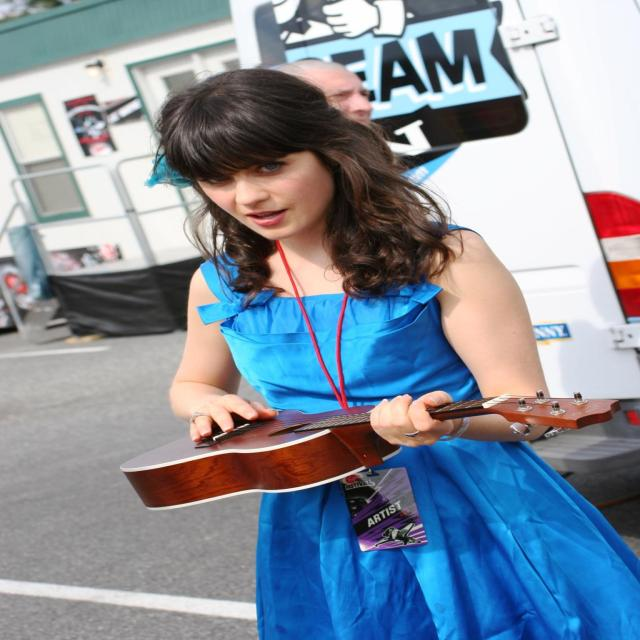Face: (183, 135, 344, 248)
